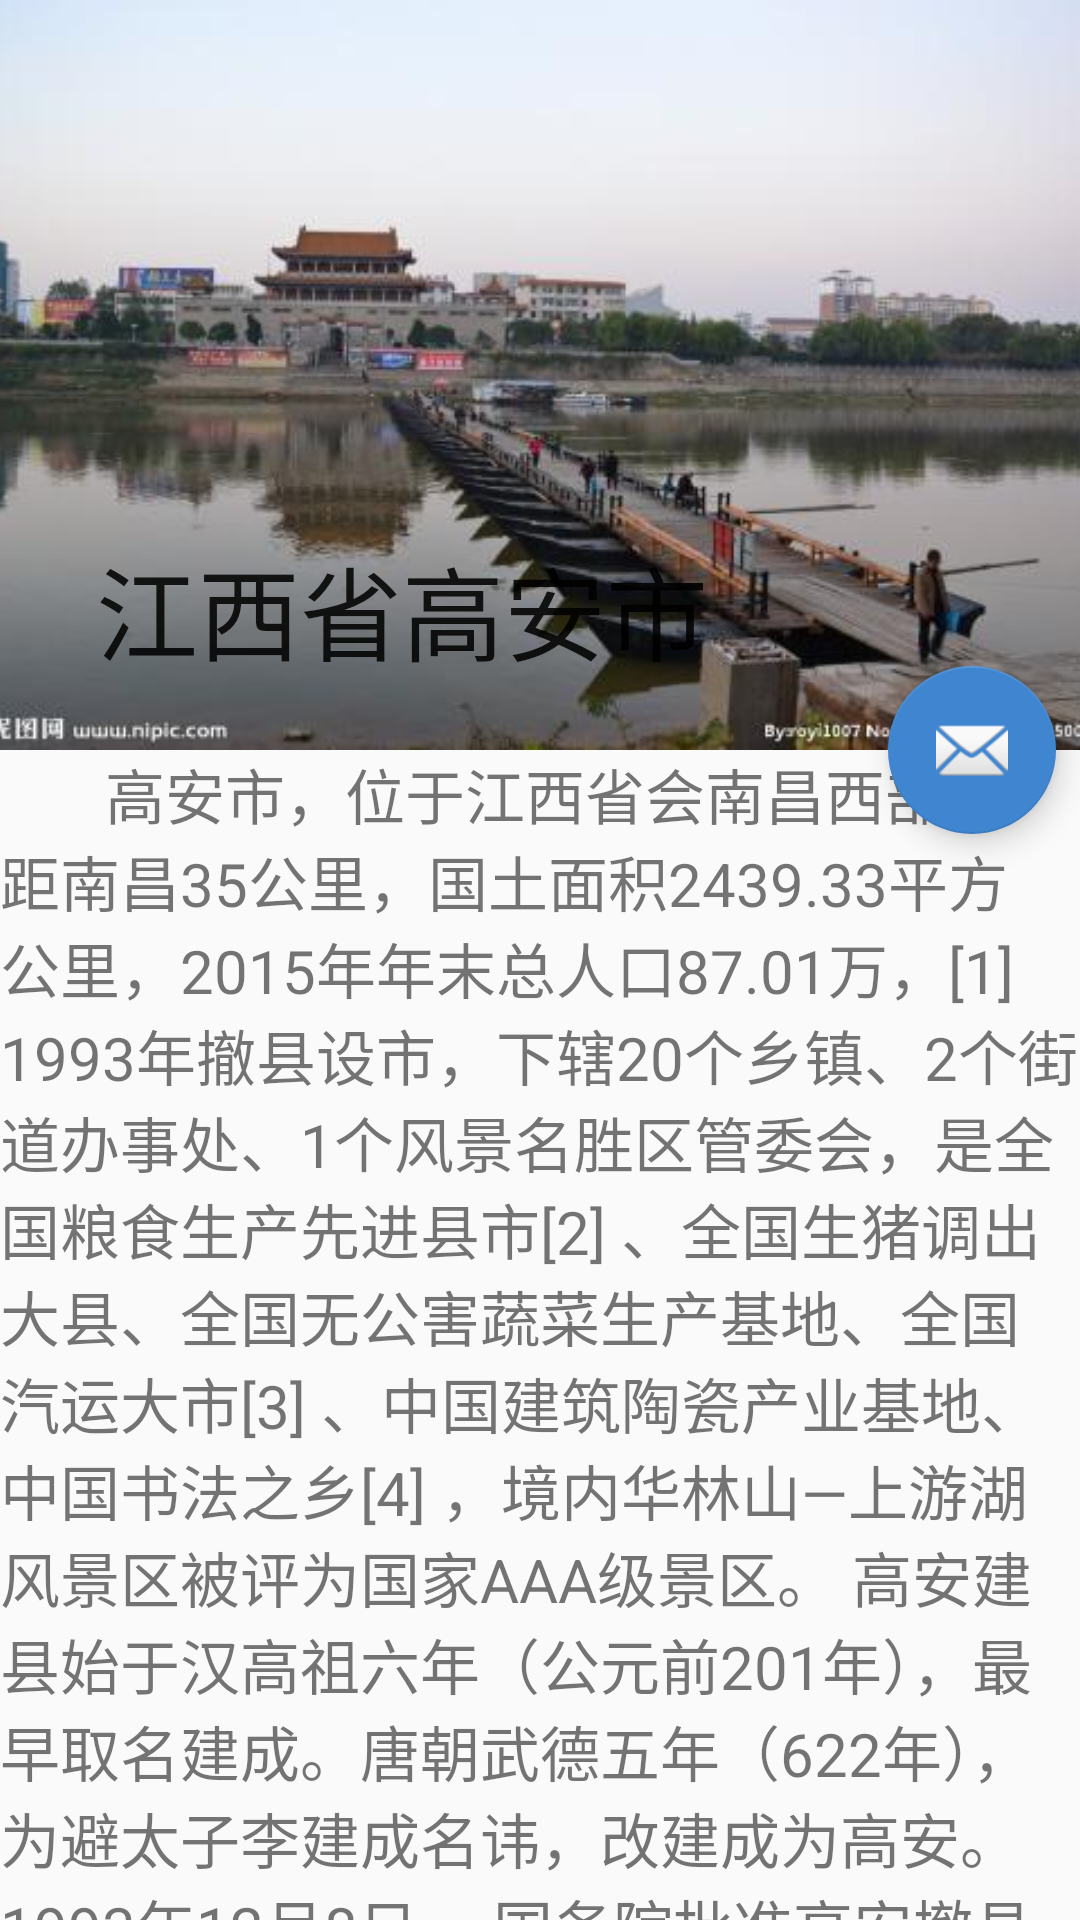

Point at icon controls on the screen. Image size 1080*1920, points as [x,y].
email: [972,750]
